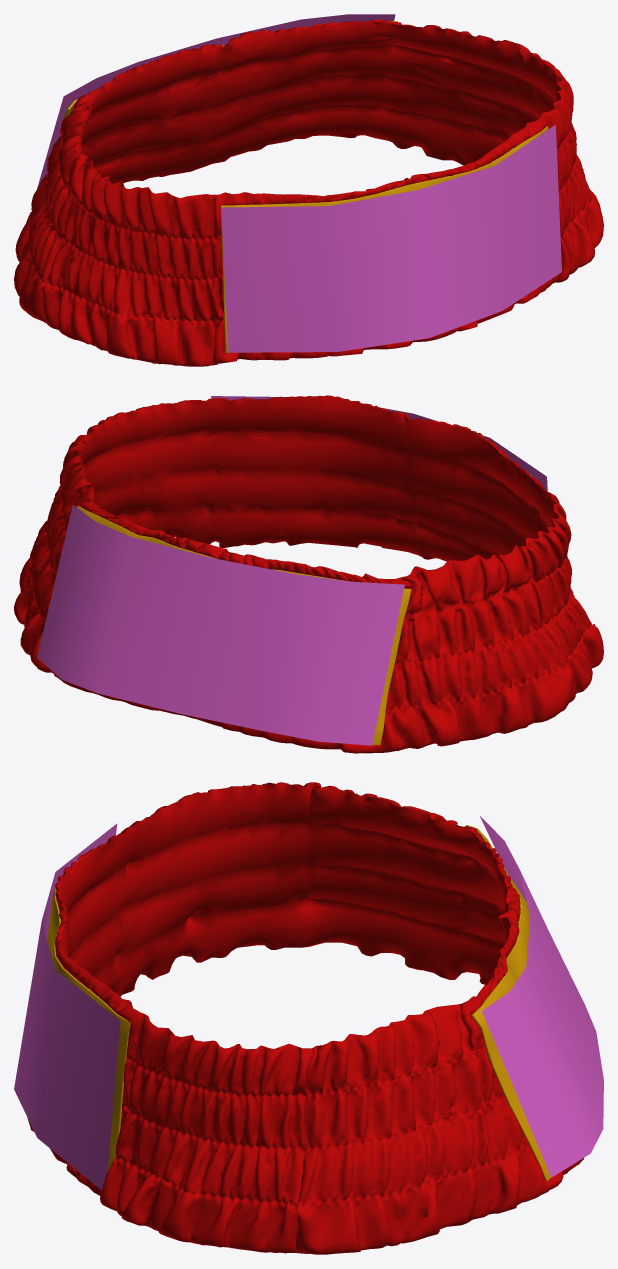
The model's file is WAIST_4_inch_waist.glb.
3 views of the same model, one above another, from view 1: azimuth 30°, elevation 25°; view 2: azimuth 150°, elevation 25°; view 3: azimuth 270°, elevation 25° (orthographic). The views are drawn at different scales.
Parts seen in each view (by area): view 1: BX_0_WAIST_4_inch_waist, BX_0_WAIST_4_inch_waist_OVER, BX_0_WAIST_4_inch_waist_logo; view 2: BX_0_WAIST_4_inch_waist, BX_0_WAIST_4_inch_waist_OVER, BX_0_WAIST_4_inch_waist_logo; view 3: BX_0_WAIST_4_inch_waist, BX_0_WAIST_4_inch_waist_OVER, BX_0_WAIST_4_inch_waist_logo.
Boxes of the visible parts, x1,y1,x2,y2 form: BX_0_WAIST_4_inch_waist: [14, 19, 603, 366]; BX_0_WAIST_4_inch_waist_OVER: [31, 14, 561, 352]; BX_0_WAIST_4_inch_waist_logo: [60, 21, 548, 353]; BX_0_WAIST_4_inch_waist: [14, 395, 603, 753]; BX_0_WAIST_4_inch_waist_OVER: [37, 396, 547, 745]; BX_0_WAIST_4_inch_waist_logo: [37, 451, 531, 745]; BX_0_WAIST_4_inch_waist: [27, 782, 583, 1254]; BX_0_WAIST_4_inch_waist_OVER: [14, 816, 603, 1190]; BX_0_WAIST_4_inch_waist_logo: [47, 825, 551, 1181].
Size of the model in its own units: 3.81 by 1.1 by 2.98.
